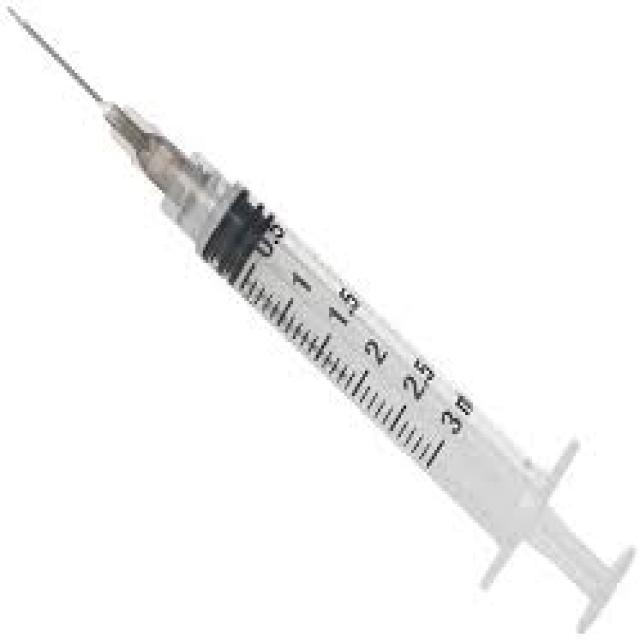syringe: (2, 0, 635, 634)
